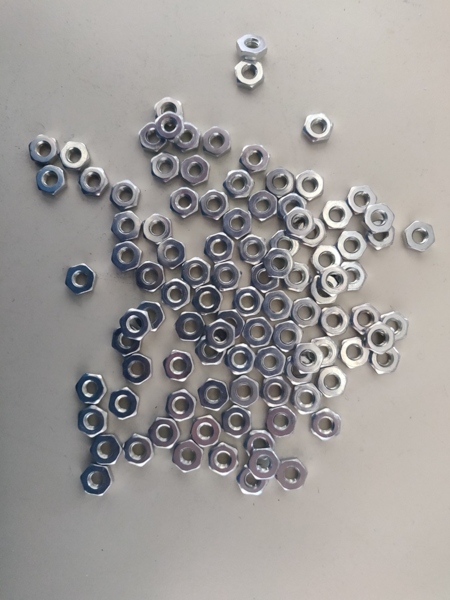nut: (119, 308, 153, 341), (247, 448, 281, 480), (163, 350, 196, 382), (190, 415, 222, 448), (237, 463, 269, 496), (276, 458, 308, 491), (259, 375, 292, 407), (316, 366, 349, 398), (318, 305, 351, 337), (80, 465, 114, 496), (173, 439, 204, 473), (205, 318, 236, 352), (291, 343, 325, 374), (65, 263, 97, 295), (242, 317, 274, 349), (265, 405, 297, 437), (291, 383, 323, 415), (242, 316, 274, 348), (90, 434, 123, 465), (209, 443, 240, 476), (284, 206, 315, 239), (193, 285, 224, 318), (261, 290, 294, 321), (224, 345, 257, 376), (310, 408, 341, 441), (199, 378, 229, 412), (149, 418, 181, 449), (166, 389, 197, 421), (302, 114, 334, 145), (234, 60, 265, 92), (109, 180, 141, 211), (111, 211, 143, 242), (405, 221, 436, 253), (211, 261, 242, 293), (321, 199, 353, 230), (364, 202, 395, 234), (290, 297, 322, 328), (254, 346, 286, 377), (263, 249, 296, 279), (285, 355, 315, 388), (224, 404, 253, 438), (60, 142, 91, 173), (312, 244, 343, 275), (350, 304, 381, 335), (370, 344, 401, 375), (76, 374, 108, 404), (110, 388, 140, 420), (245, 430, 277, 460), (135, 261, 165, 293), (204, 233, 236, 263), (340, 337, 370, 369), (125, 434, 154, 467), (170, 187, 199, 220), (158, 237, 187, 270), (366, 321, 395, 354), (112, 241, 142, 272), (180, 155, 210, 186), (347, 185, 378, 215), (175, 312, 206, 342), (79, 406, 108, 438), (123, 353, 152, 385), (203, 125, 232, 157), (239, 144, 271, 173), (162, 278, 191, 310), (112, 325, 141, 357), (231, 376, 260, 408), (311, 336, 340, 368), (181, 258, 211, 288), (235, 287, 265, 317), (224, 170, 255, 199), (200, 190, 229, 221), (78, 168, 110, 196), (139, 122, 169, 151), (151, 152, 180, 182), (266, 167, 295, 197), (223, 210, 253, 239), (321, 267, 350, 297), (196, 336, 226, 365), (250, 191, 278, 222), (295, 170, 323, 201), (339, 262, 368, 291), (37, 165, 65, 195), (144, 214, 172, 244), (338, 231, 368, 259), (270, 230, 300, 258), (298, 218, 326, 248), (311, 275, 339, 305), (240, 234, 267, 265), (29, 135, 58, 163), (156, 112, 184, 141), (273, 321, 302, 349), (284, 263, 311, 293), (140, 302, 167, 332), (382, 312, 409, 342), (252, 264, 279, 293), (237, 35, 267, 61), (155, 98, 183, 125), (217, 310, 245, 337), (278, 194, 308, 219), (369, 222, 395, 250), (176, 124, 201, 153)
